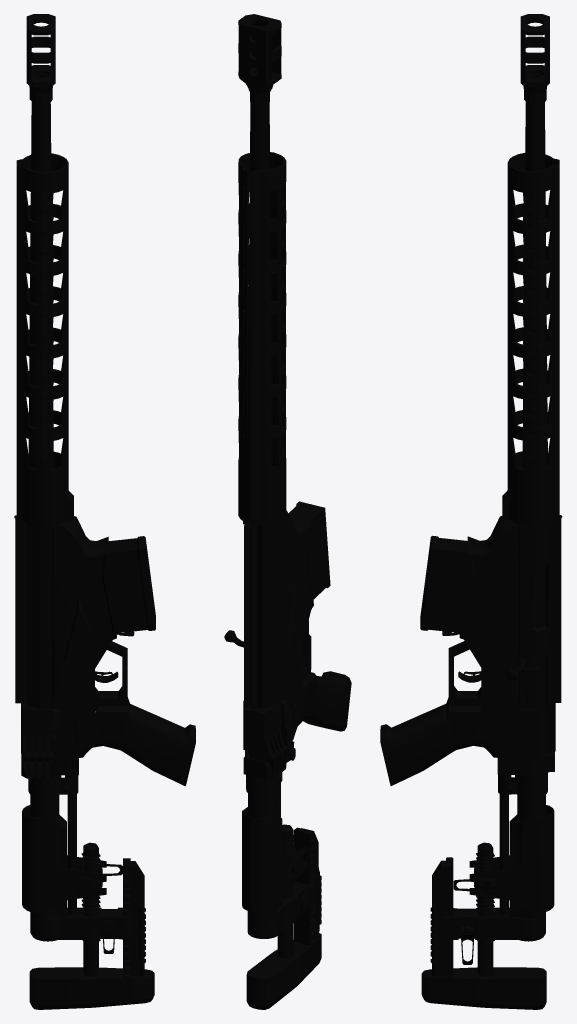
File: RugerRPR.fbx
The picture shows the model from 3 angles, left to right: view 1: azimuth 90°, elevation 25°; view 2: azimuth 150°, elevation 25°; view 3: azimuth 270°, elevation 25°; orthographic projection.
Visible parts, largest first — view 1: asset_RugerRPR.001; view 2: asset_RugerRPR.001; view 3: asset_RugerRPR.001.
Part boxes in pixels (x1,y1,x2,y2): asset_RugerRPR.001: (14, 14, 195, 1009); asset_RugerRPR.001: (224, 14, 351, 1009); asset_RugerRPR.001: (380, 14, 562, 1009).
Bounding box in the file's own units: 0.0463 × 0.648 × 0.1086.
